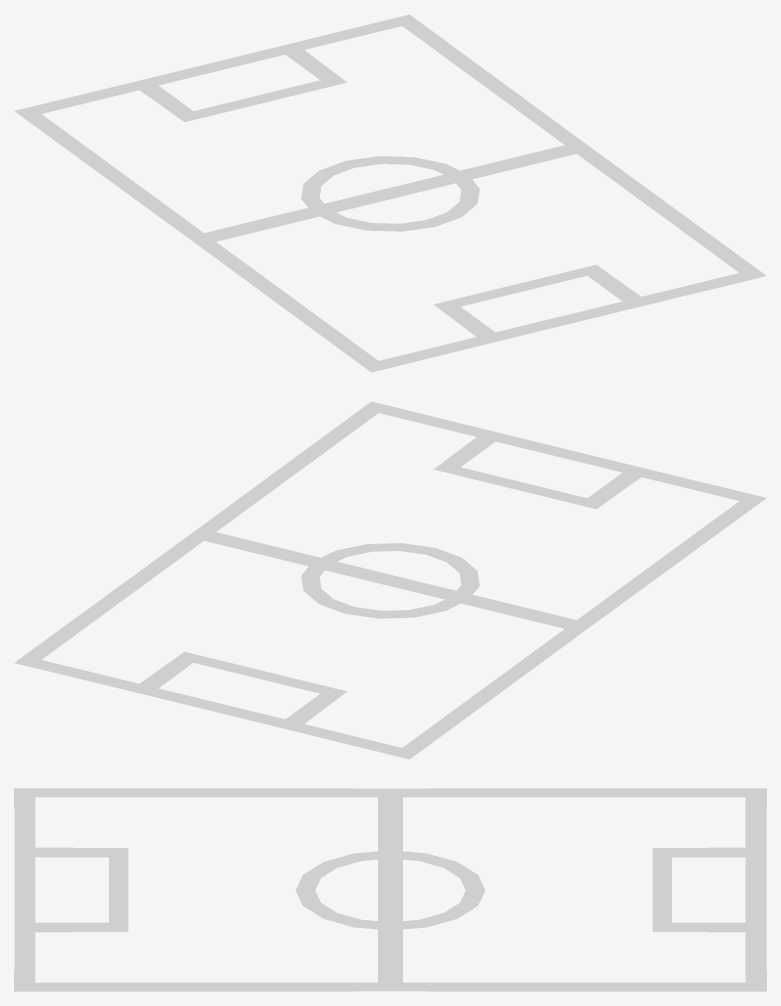
The model's file is DivisasFutebol.fbx.
3 renders of one model, top to bottom at view 1: azimuth 30°, elevation 25°; view 2: azimuth 150°, elevation 25°; view 3: azimuth 270°, elevation 25°, orthographic. The views are drawn at different scales.
Parts seen in each view (by area): view 1: DivisasFutebol; view 2: DivisasFutebol; view 3: DivisasFutebol.
Part boxes in pixels (<box>): DivisasFutebol: <box>14,14,766,372</box>; DivisasFutebol: <box>14,401,766,759</box>; DivisasFutebol: <box>14,788,766,991</box>.
Bounding box in the file's own units: 689 × 0.6808 × 1078.
